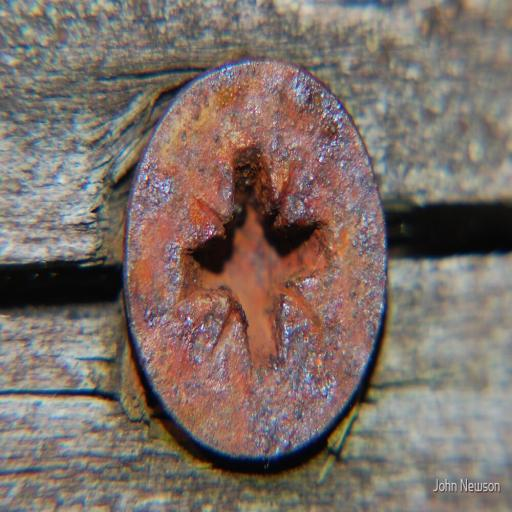Phillips: (126, 62, 389, 468)
